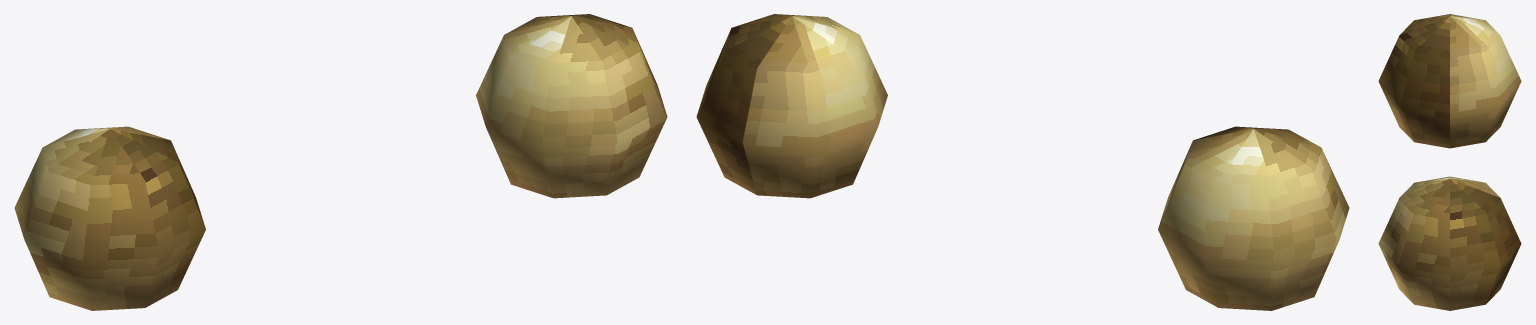
The model's file is maur_earrings_round_1.dae.
The picture shows the model from 3 angles, left to right: view 1: azimuth 30°, elevation 25°; view 2: azimuth 150°, elevation 25°; view 3: azimuth 270°, elevation 25°; orthographic projection. The views are drawn at different scales.
Visible parts, largest first — view 1: Sphere005; view 2: Sphere005; view 3: Sphere005.
Part boxes in pixels (box(x1,y1,x2,y2)): Sphere005: box(14, 14, 667, 310); Sphere005: box(696, 14, 1349, 310); Sphere005: box(1378, 14, 1521, 310).
Bounding box in the file's own units: 0.5809 × 0.1576 × 0.1576.
